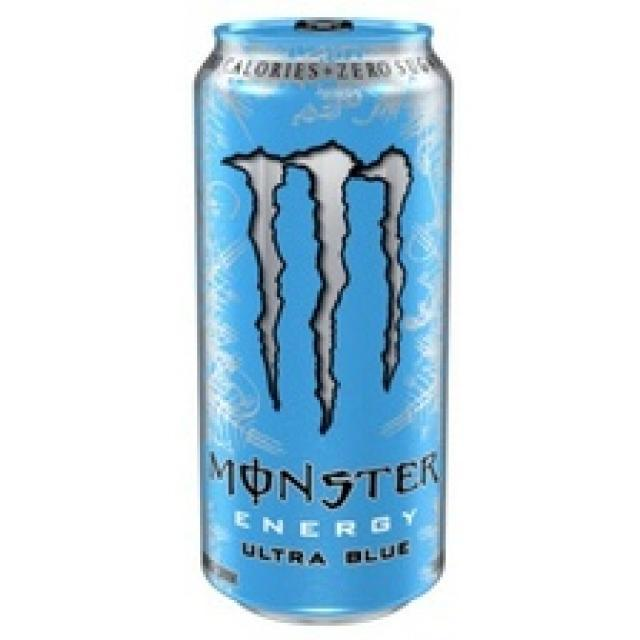recyclable: (193, 13, 449, 627)
